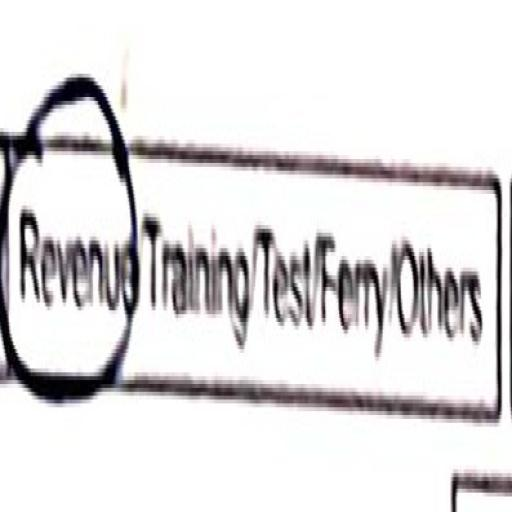check: (0, 64, 143, 436)
